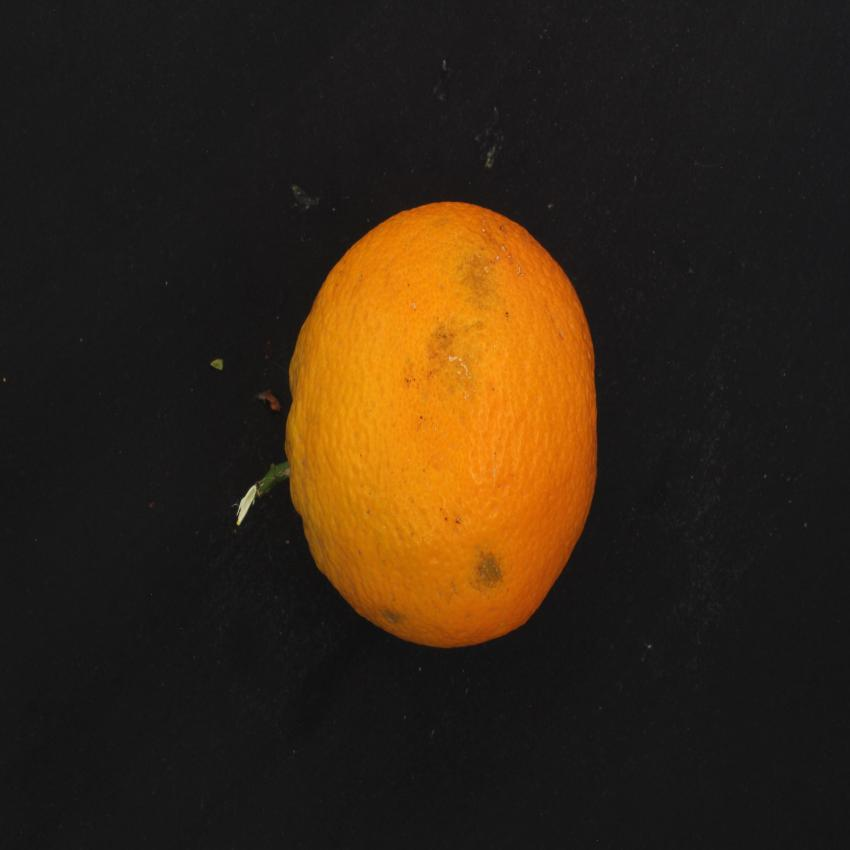Buen estado: (234, 187, 606, 666)
